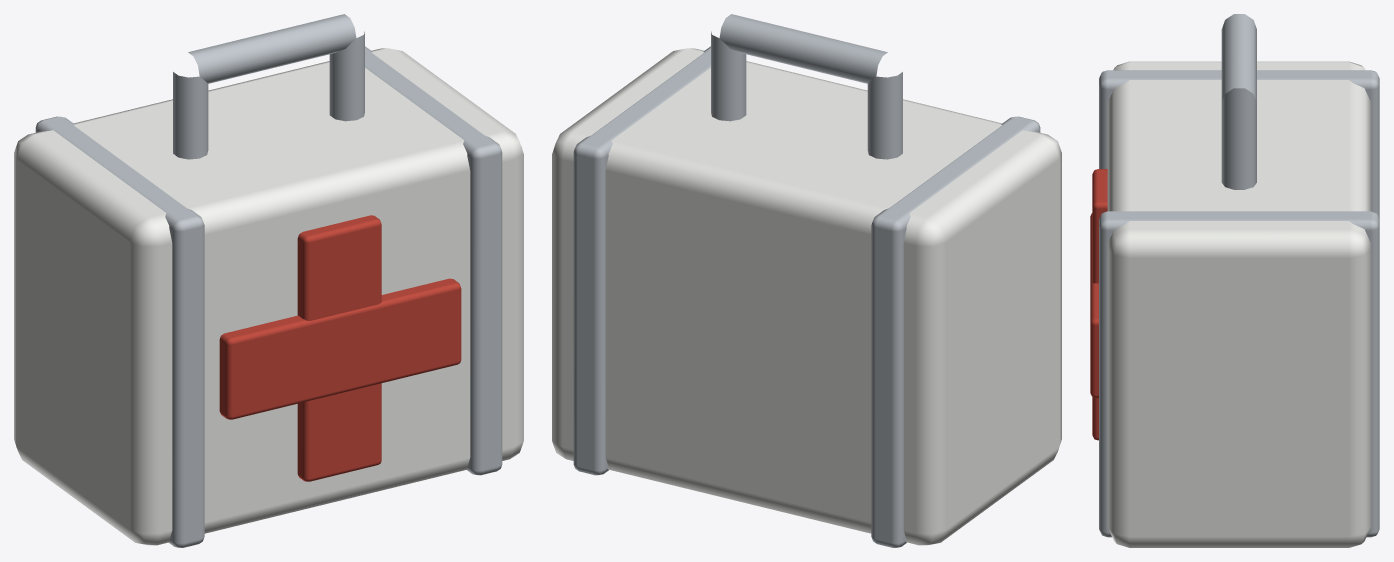
File: arena-shooter-map-kit-health-large-6e20e3d2__23113.glb
3 renders of one model, left to right at view 1: azimuth 30°, elevation 25°; view 2: azimuth 150°, elevation 25°; view 3: azimuth 270°, elevation 25°, orthographic. The views are drawn at different scales.
Parts seen in each view (by area): view 1: health-large; view 2: health-large; view 3: health-large.
Boxes of the visible parts, bbox=[...] form: health-large: bbox=[14, 14, 523, 547]; health-large: bbox=[552, 14, 1061, 547]; health-large: bbox=[1090, 14, 1379, 547].
Size of the model in its own units: 0.5 by 0.519 by 0.33.
